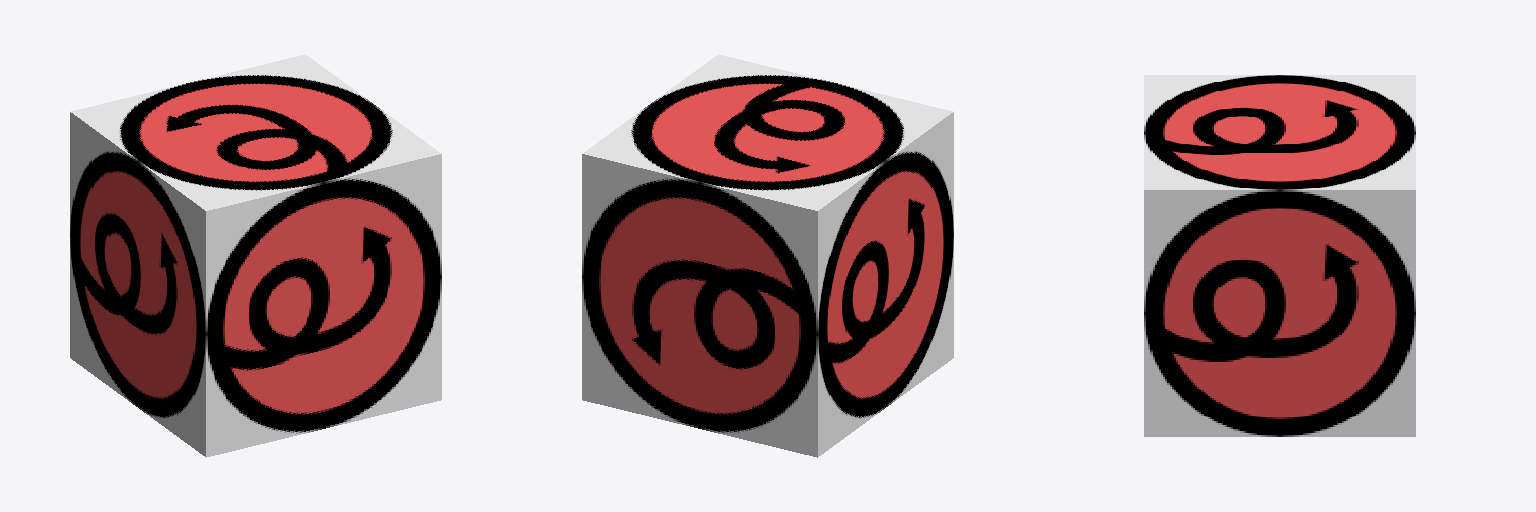
The picture shows the model from 3 angles: view 1: azimuth 30°, elevation 25°; view 2: azimuth 150°, elevation 25°; view 3: azimuth 270°, elevation 25°; orthographic projection.
Visible parts, largest first — view 1: Cube; view 2: Cube; view 3: Cube.
Boxes of the visible parts, x1=… form: Cube: x1=70, y1=54, x2=441, y2=457; Cube: x1=582, y1=54, x2=953, y2=457; Cube: x1=1144, y1=75, x2=1415, y2=436.
Size of the model in its own units: 2 by 2 by 2.
Materials: 1 (1 with a texture image).